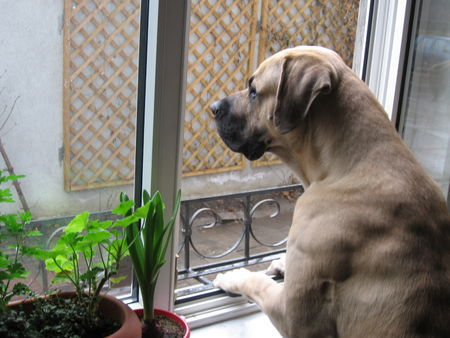tosa_inu: (208, 43, 450, 338)
